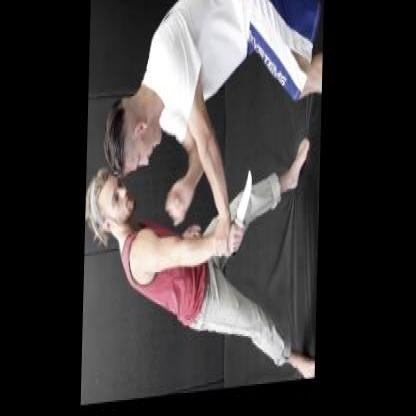knife: (231, 172, 256, 262)
